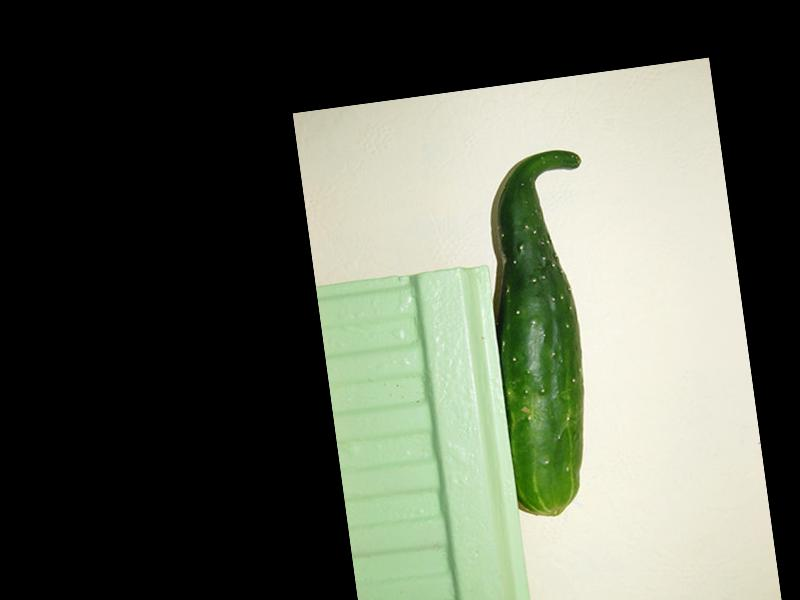Cucumber: (471, 145, 626, 519)
